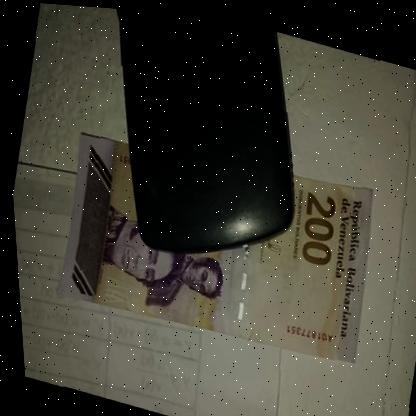two_hundred-front-vef: (41, 103, 388, 376)
